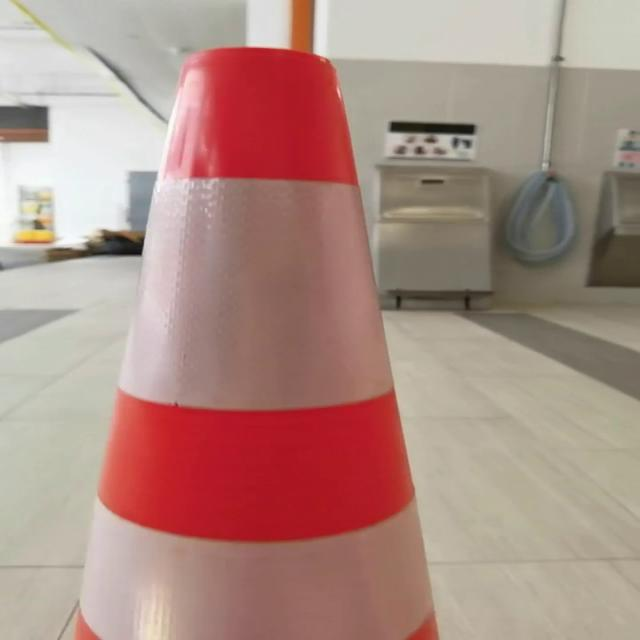cone: (66, 41, 442, 640)
